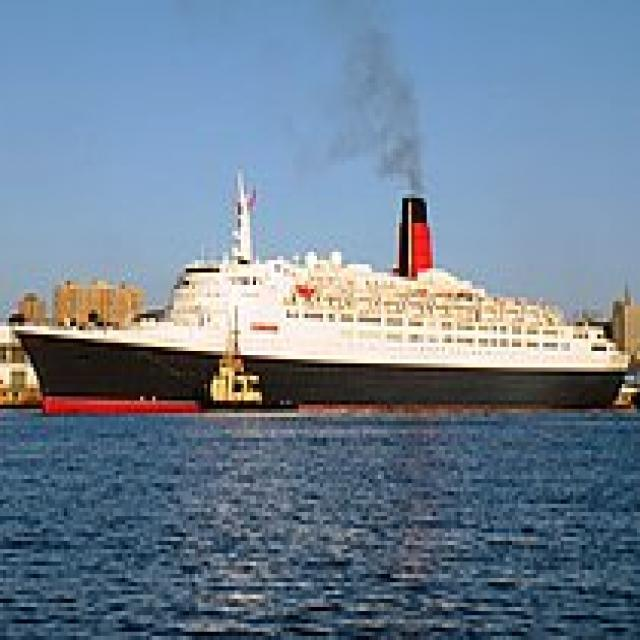Ship: (22, 179, 629, 427)
